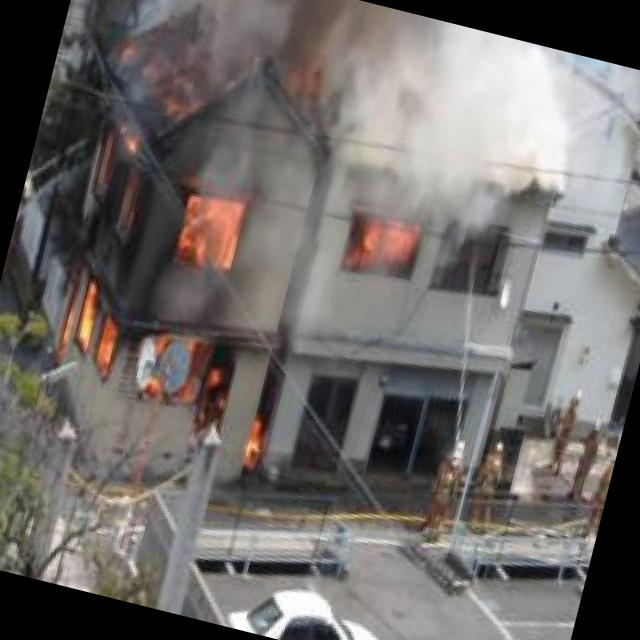Fire: (18, 83, 330, 470), (336, 205, 431, 288)
Smoke: (128, 0, 602, 209)
